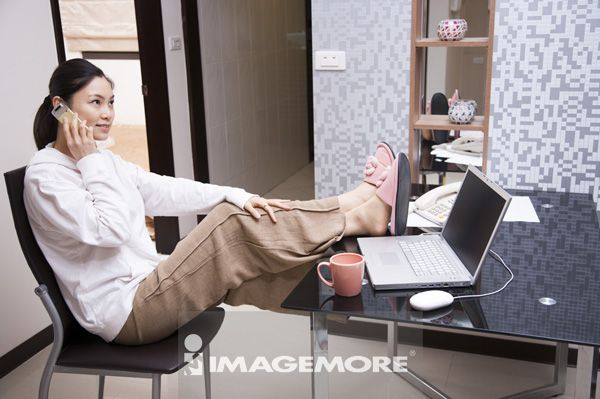talk: (51, 89, 115, 158)
